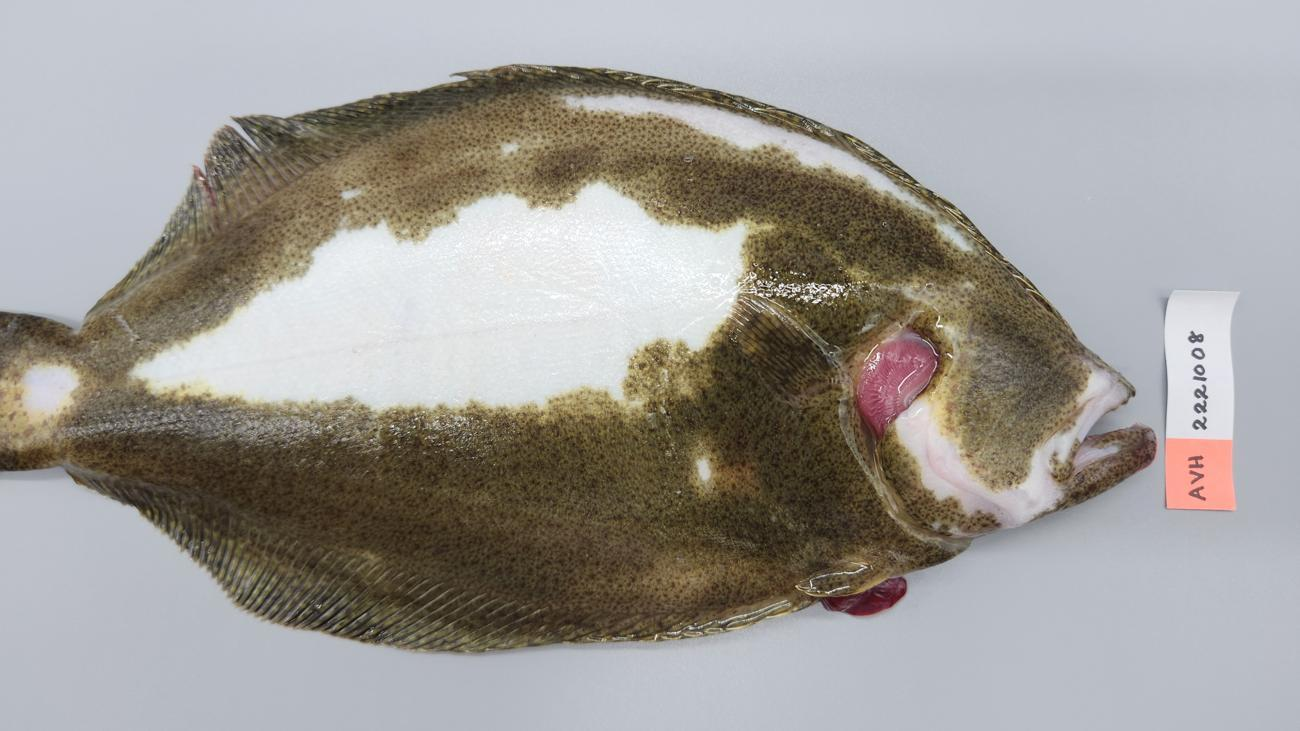VIFDH: (188, 147, 240, 224)
